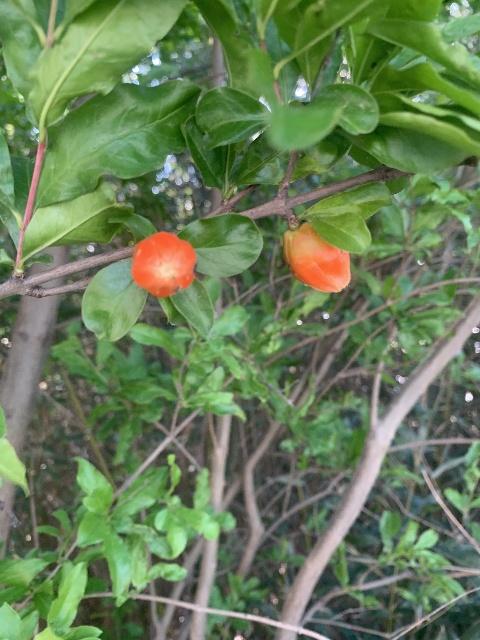bud: (283, 222, 350, 293), (130, 232, 196, 297)
